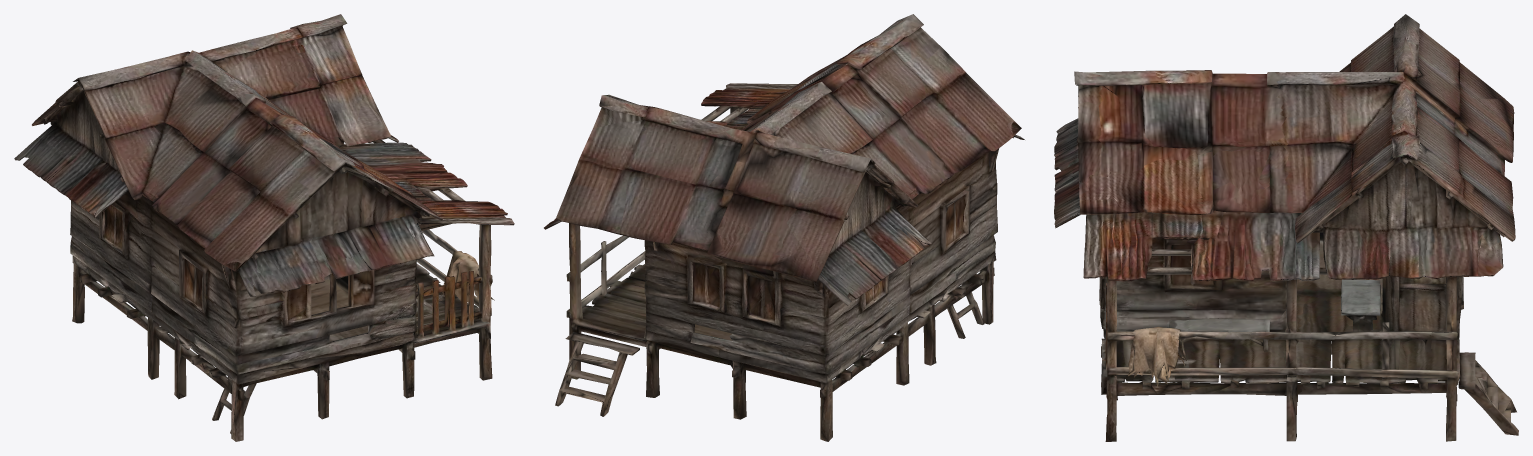
Rendered from shack.glb.
3 views of the same model, side by side, from view 1: azimuth 30°, elevation 25°; view 2: azimuth 150°, elevation 25°; view 3: azimuth 270°, elevation 25° (orthographic). The views are drawn at different scales.
Visible parts, largest first — view 1: Object_4; view 2: Object_4; view 3: Object_4.
Boxes of the visible parts, left/top/right/bottom form: Object_4: left=14, top=14, right=514, bottom=441; Object_4: left=544, top=14, right=1024, bottom=441; Object_4: left=1054, top=14, right=1518, bottom=441.
Size of the model in its own units: 0.8382 by 0.6867 by 0.9981.
Materials: 1 (1 with a texture image).
